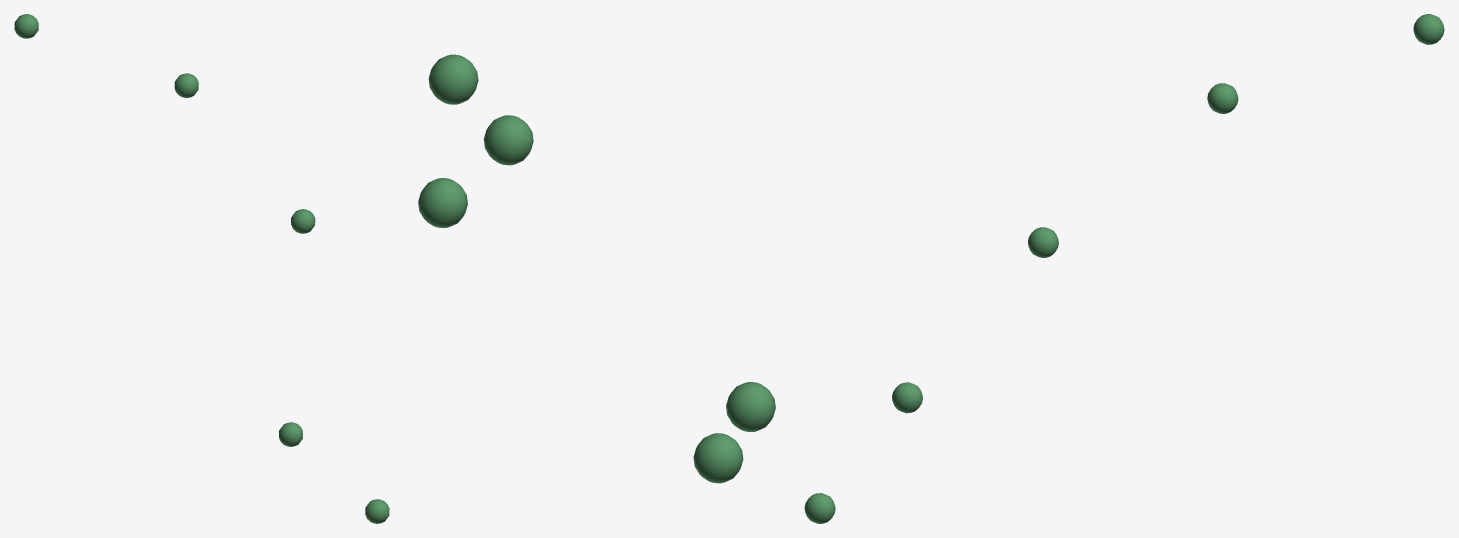
3 renders of one model, left to right at view 1: azimuth 30°, elevation 25°; view 2: azimuth 150°, elevation 25°; view 3: azimuth 270°, elevation 25°, orthographic. The views are drawn at different scales.
Visible parts, largest first — view 1: 左侧骶外侧淋巴结; view 2: 左侧骶外侧淋巴结; view 3: 左侧骶外侧淋巴结.
Part boxes in pixels (<box>): 左侧骶外侧淋巴结: <box>14,14,389,523</box>; 左侧骶外侧淋巴结: <box>418,54,775,483</box>; 左侧骶外侧淋巴结: <box>804,14,1444,523</box>.
Bounding box in the file's own units: 0.0252 × 0.0598 × 0.0783.
